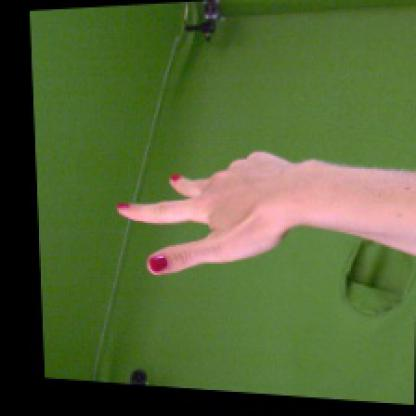Hand: (116, 150, 306, 276)
